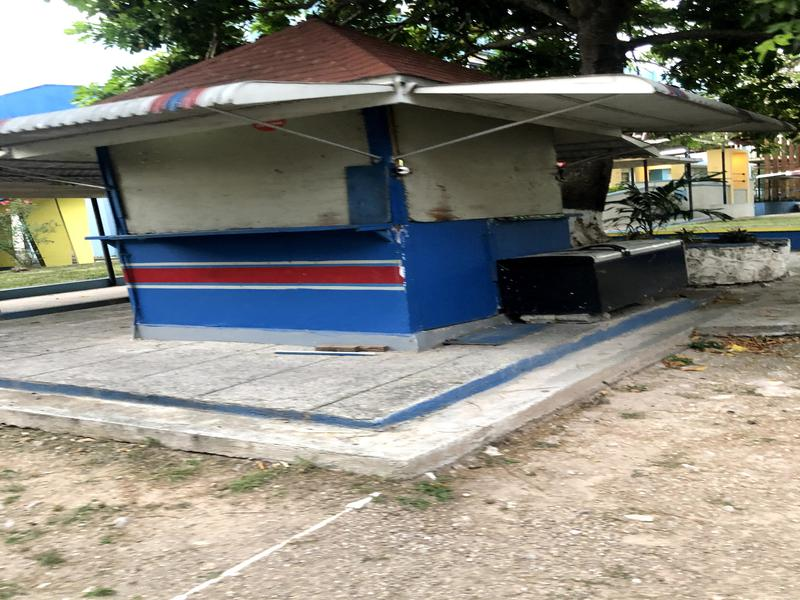18.0050609_-76.7496662_auntyjackie: (53, 17, 618, 359)
